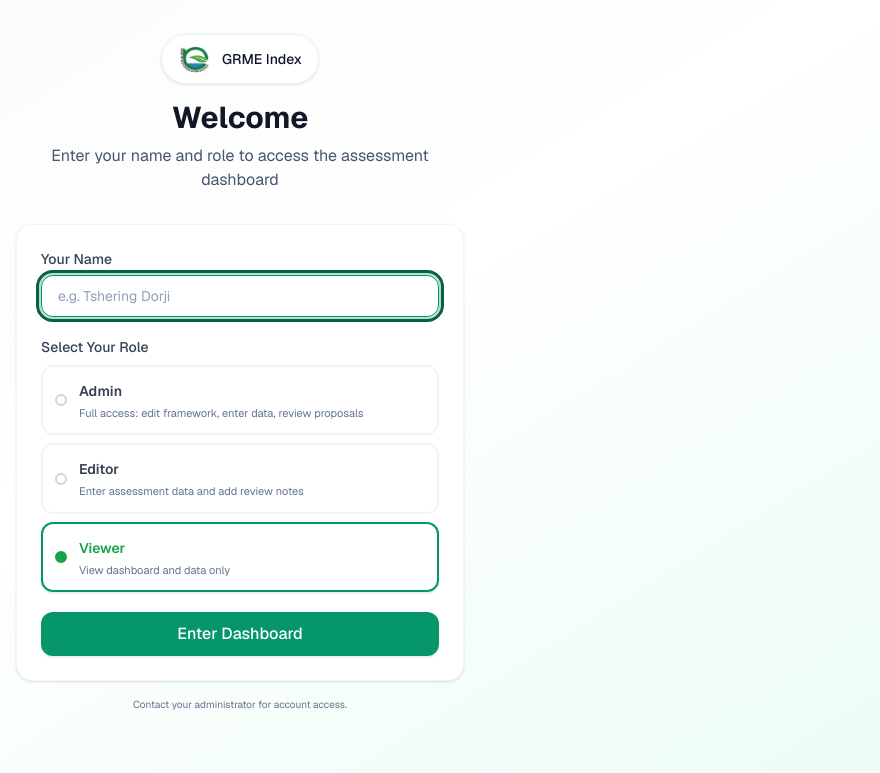
Test: LoginScreen › shows error when submitting with empty name
Step 1. Click the button "Enter Dashboard" → (240, 634), box [41,612,439,656]
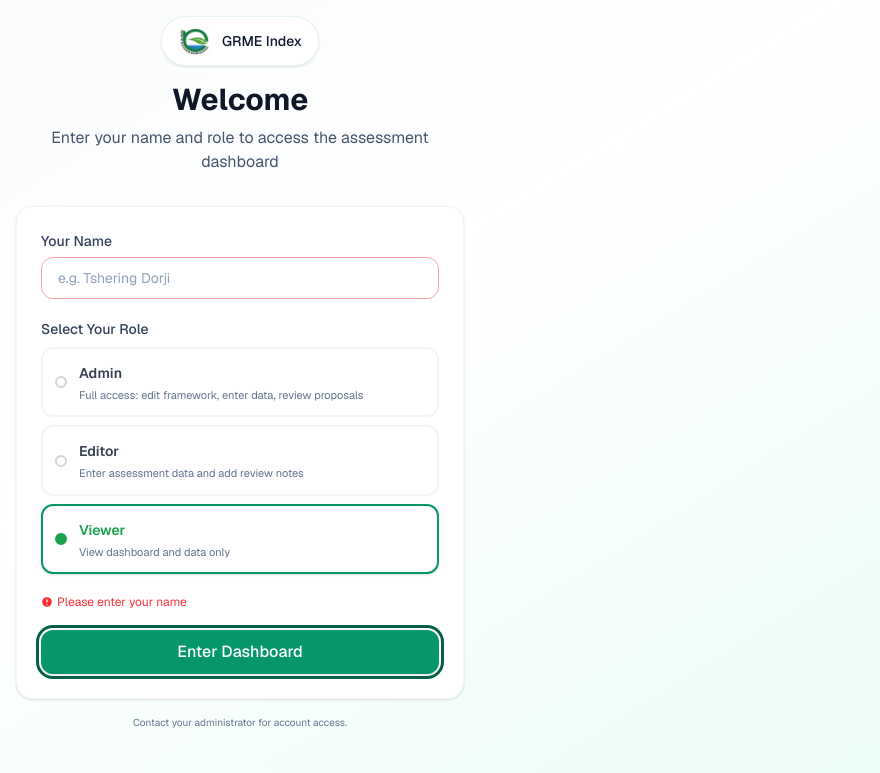
Check: the text "Please enter your name" is shown, box [41,594,187,610]
